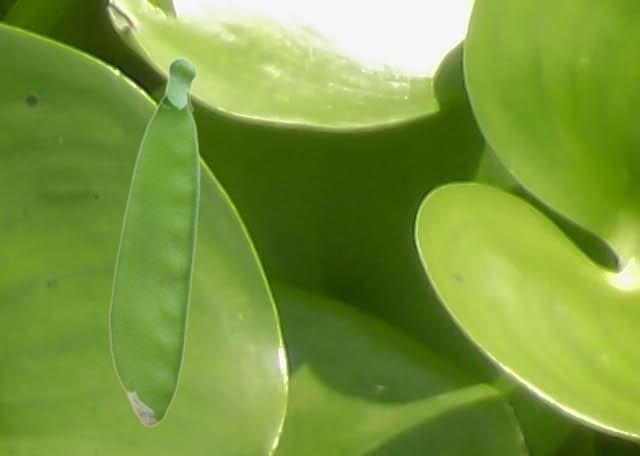pea: (108, 55, 200, 426)
